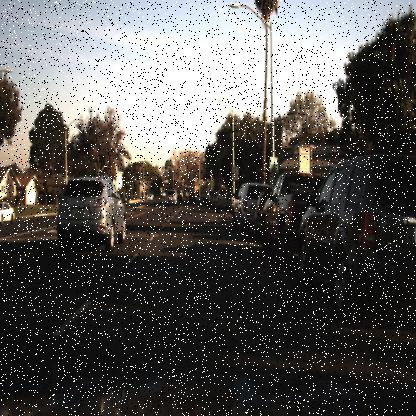car: (297, 156, 416, 326), (48, 159, 127, 255), (260, 169, 298, 263), (229, 175, 251, 235), (248, 188, 265, 243), (213, 185, 231, 211), (0, 200, 16, 228), (186, 188, 199, 208), (146, 190, 155, 204)
